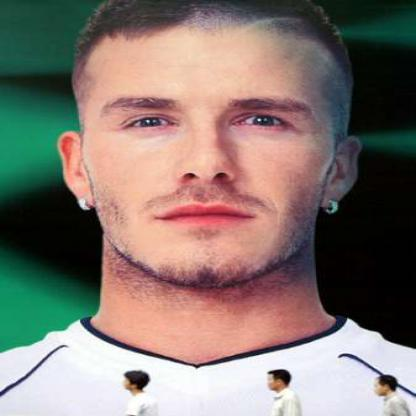face: (82, 1, 336, 292)
